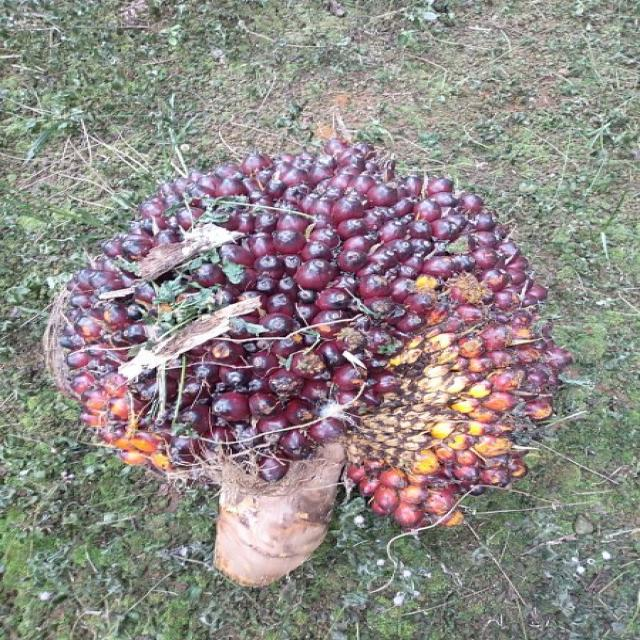fraksi 1: (38, 141, 572, 526)
